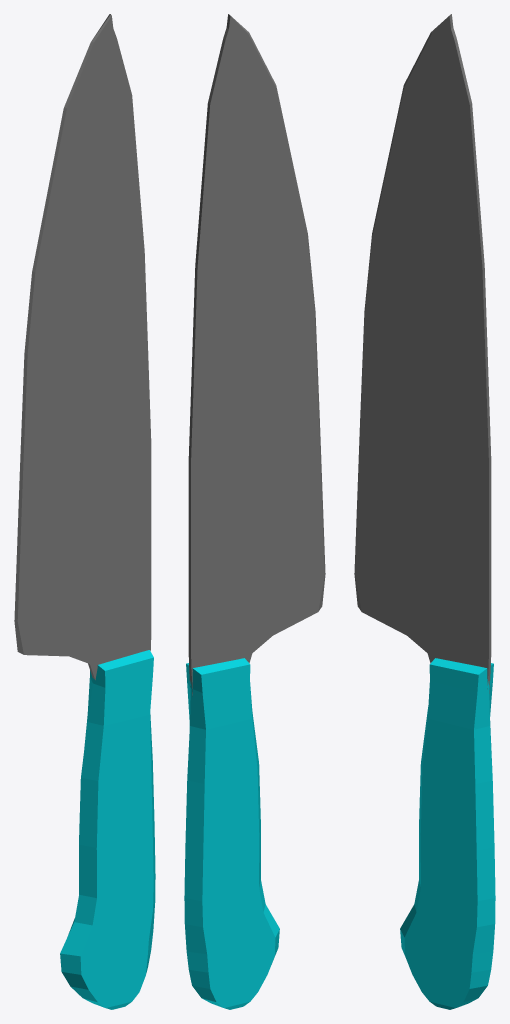
Rendered from Faca.fbx.
The picture shows the model from 3 angles, left to right: view 1: azimuth 30°, elevation 25°; view 2: azimuth 210°, elevation 25°; view 3: azimuth 330°, elevation 25°; orthographic projection.
Parts seen in each view (by area): view 1: Faca; view 2: Faca; view 3: Faca.
Part boxes in pixels (x1,y1,x2,y2): Faca: (14, 14, 155, 1009); Faca: (184, 14, 325, 1009); Faca: (354, 14, 495, 1009).
Bounding box in the file's own units: 7.3 × 48.92 × 1.44.
Materials: 1 (1 with a texture image).
